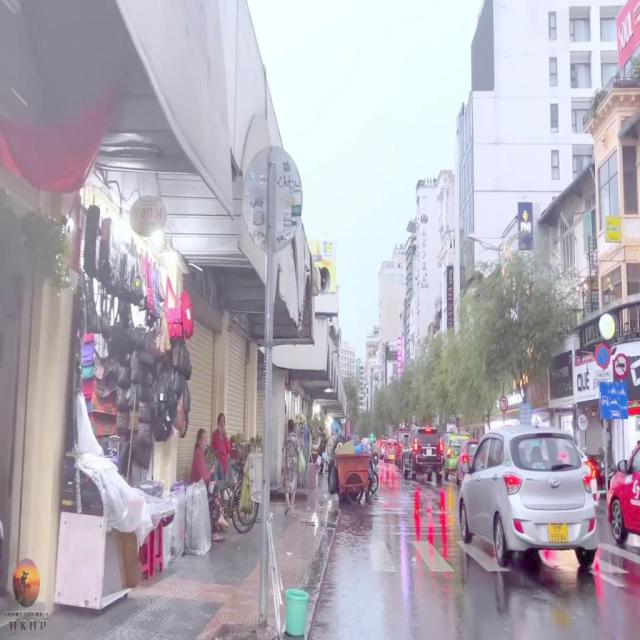cam_do_xe: (596, 343, 611, 370)
cam_o_to_re_trai: (500, 395, 509, 410)
cam_o_to_tai_trong_luong_qua_10t: (615, 354, 630, 379)
khac: (599, 382, 628, 419), (596, 371, 612, 379)
